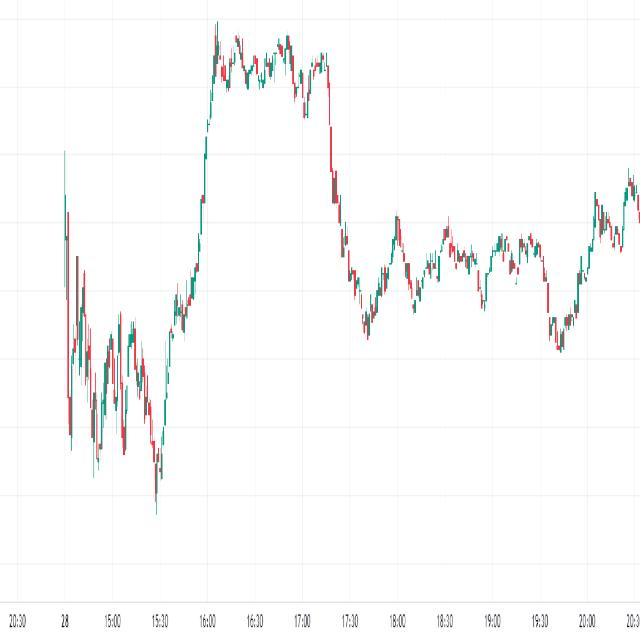rectangle: (209, 23, 297, 96)
